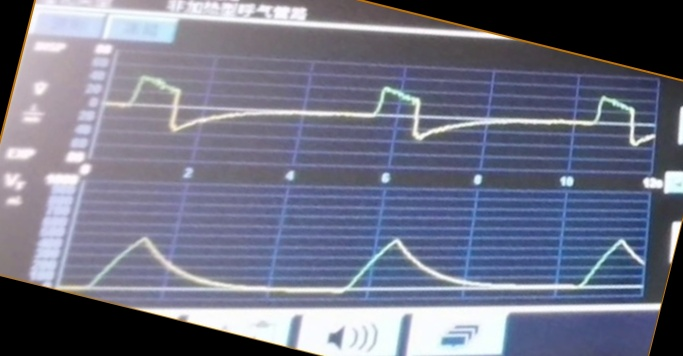Accumulation Flow: (110, 71, 647, 164)
Volume: (78, 207, 645, 297)
